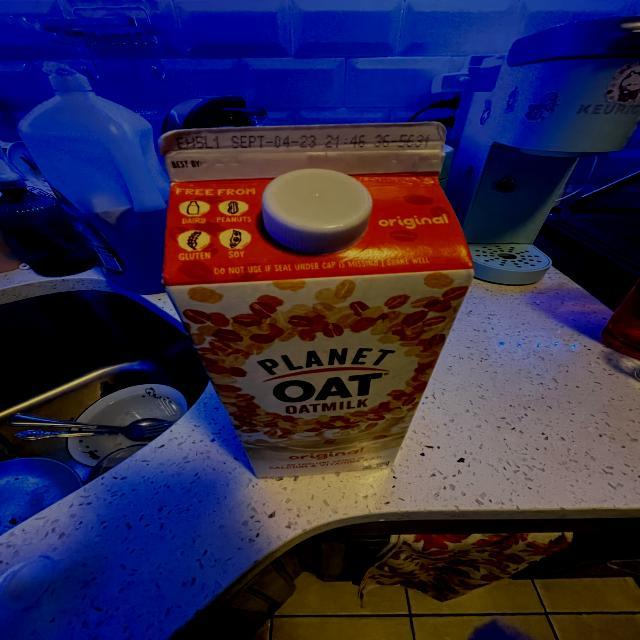Planet Oat Original: (156, 118, 481, 482)
